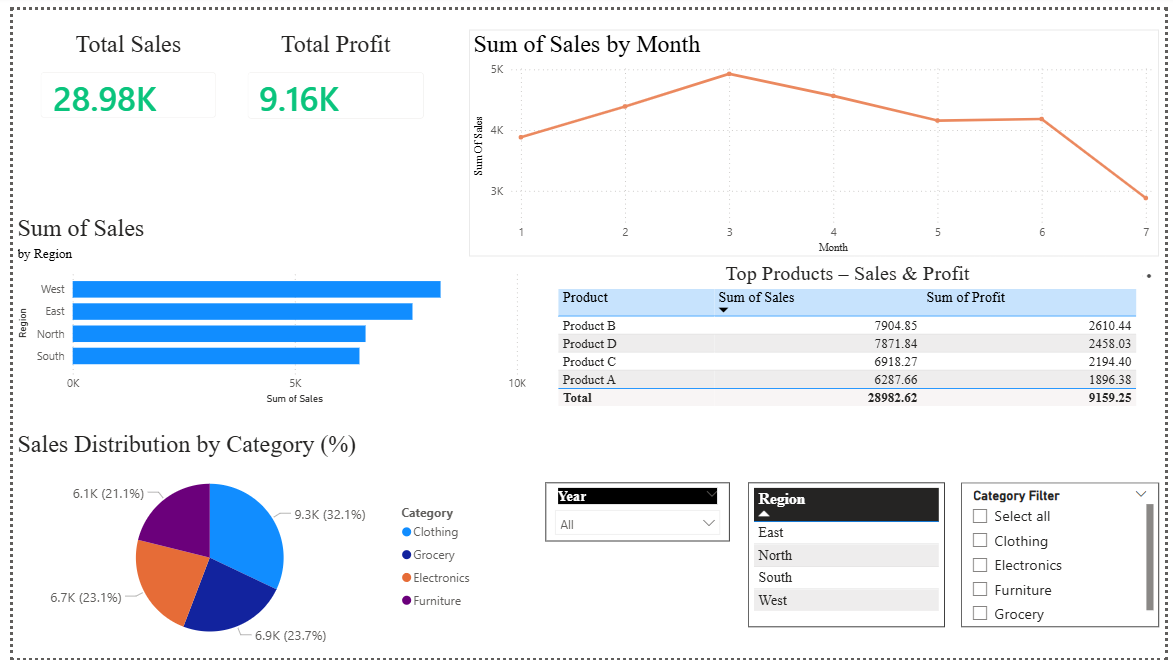

This screenshot's page, from the dashboard's own definition file:
{"tool":"powerbi","page":{"name":"Page 1","canvas":[1280,720],"ordinal":0},"visuals":[{"type":"cardVisual","title":"Total Sales","fields":{"Data":["Sum(cleaned_sales_data.Sales)"]},"box":[13.7,21.2,229.4,115.7],"z":0},{"type":"cardVisual","title":"Total Profit","fields":{"Data":["Sum(cleaned_sales_data.Profit)"]},"box":[243.9,21.2,230.3,116.7],"z":1000},{"type":"clusteredBarChart","fields":{"Category":["cleaned_sales_data.Region"],"Y":["Sum(cleaned_sales_data.Sales)"]},"box":[0,227.5,574.5,215.7],"z":2000},{"type":"lineChart","title":"Sum of Sales by Month","fields":{"Category":["cleaned_sales_data.Month"],"Y":["Sum(cleaned_sales_data.Sales)"]},"box":[505.9,21.2,766.7,252.9],"z":3000},{"type":"pieChart","title":"Sales Distribution by Category (%)","fields":{"Category":["cleaned_sales_data.Category"],"Y":["Sum(cleaned_sales_data.Sales)"]},"box":[0,466.7,521.6,252.9],"z":4000},{"type":"tableEx","title":"Top Products – Sales & Profit","fields":{"Values":["cleaned_sales_data.Product","Sum(cleaned_sales_data.Sales)","Sum(cleaned_sales_data.Profit)"]},"box":[600,280.3,654.5,184.8],"z":5000},{"type":"slicer","fields":{"Values":["cleaned_sales_data.Category"]},"box":[1053,524.2,219.7,160.6],"z":6000},{"type":"slicer","fields":{"Values":["cleaned_sales_data.Year"]},"box":[591.9,524.4,204.7,65.1],"z":7000},{"type":"tableEx","fields":{"Values":["cleaned_sales_data.Region"]},"box":[817.4,524.4,218.6,160.5],"z":8000}]}

Visuals, with their boxes in screenshot pixels (x1, y1, x2, y2), scaled from the page's 1280x720 canvas onto the 1173x661 screenshot:
"Total Sales" cardVisual: x1=13 y1=19 x2=223 y2=126
"Total Profit" cardVisual: x1=224 y1=19 x2=435 y2=127
clusteredBarChart - cleaned_sales_data.Region x Sum(cleaned_sales_data.Sales): x1=0 y1=209 x2=526 y2=407
"Sum of Sales by Month" lineChart: x1=464 y1=19 x2=1166 y2=252
"Sales Distribution by Category (%)" pieChart: x1=0 y1=428 x2=478 y2=660
"Top Products – Sales & Profit" tableEx: x1=550 y1=257 x2=1150 y2=427
slicer - cleaned_sales_data.Category: x1=965 y1=481 x2=1166 y2=629
slicer - cleaned_sales_data.Year: x1=542 y1=481 x2=730 y2=541
tableEx - cleaned_sales_data.Region: x1=749 y1=481 x2=949 y2=629
